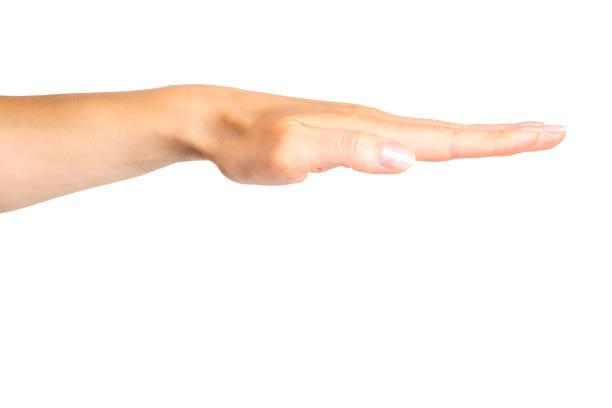paper: (172, 65, 588, 203)
